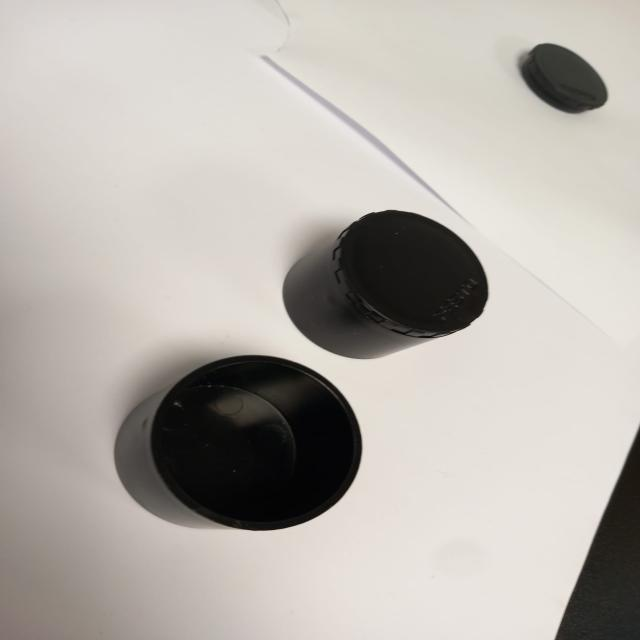NoLid: (118, 338, 374, 544)
Workpiece: (310, 201, 510, 387)
